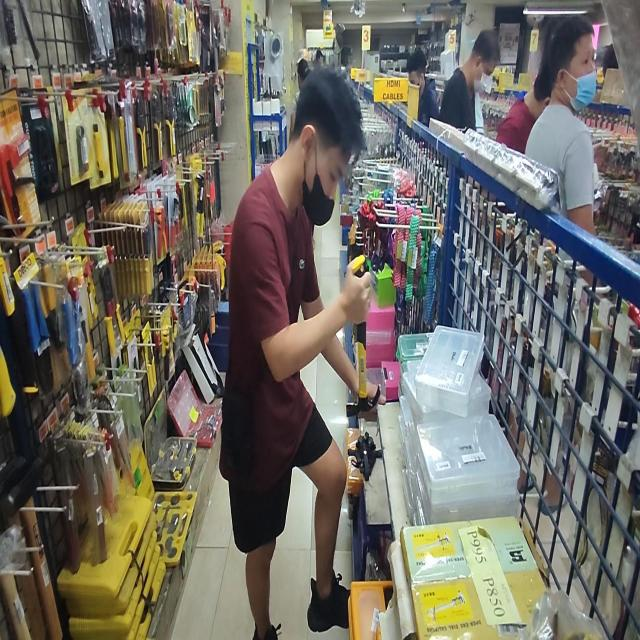hammer: (345, 254, 381, 417)
